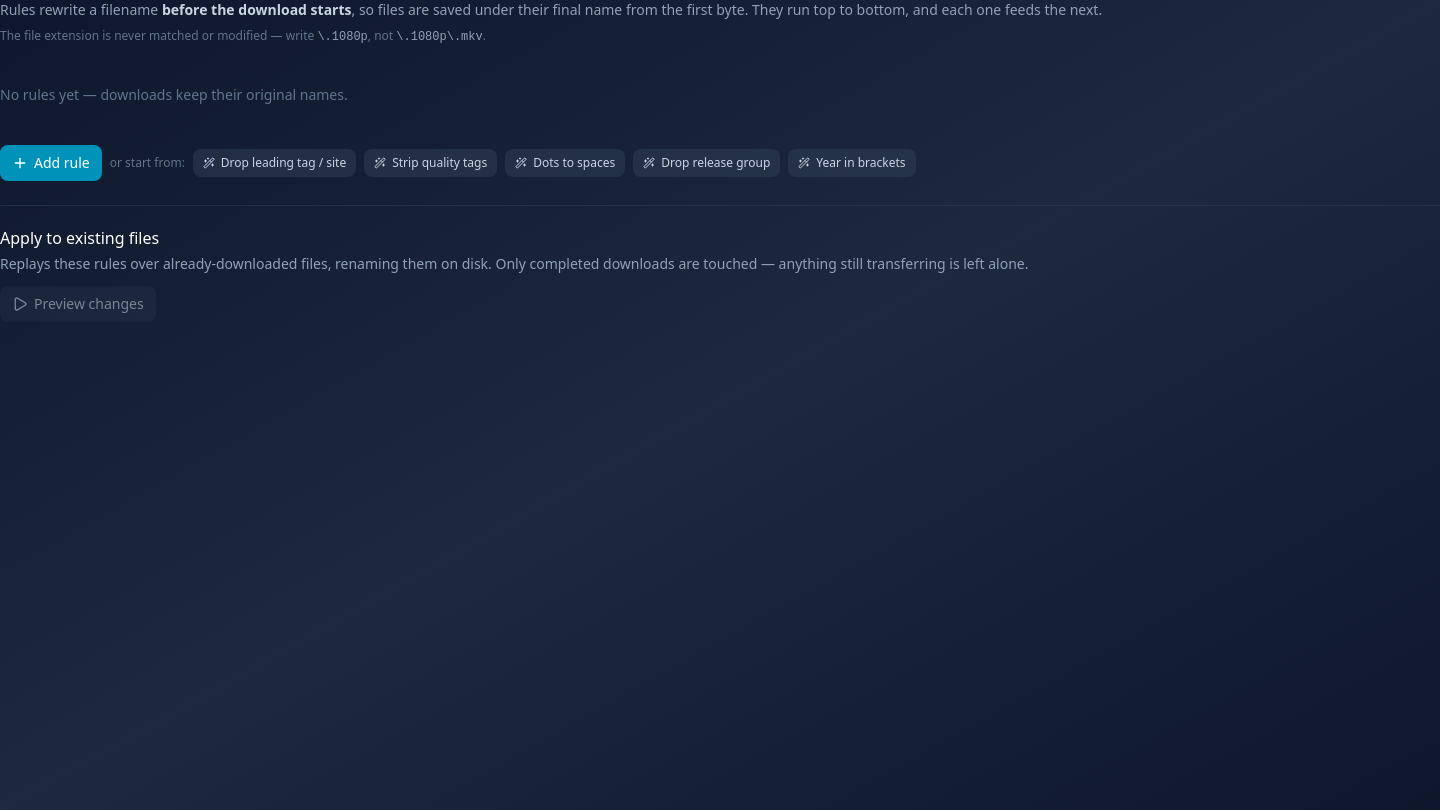
Scenario: RenameRulesSettings - editor › a preview with no match says so; a bad regex shows the server error
Click the button "Add rule".
click(51, 163)  # box [0,145,102,181]
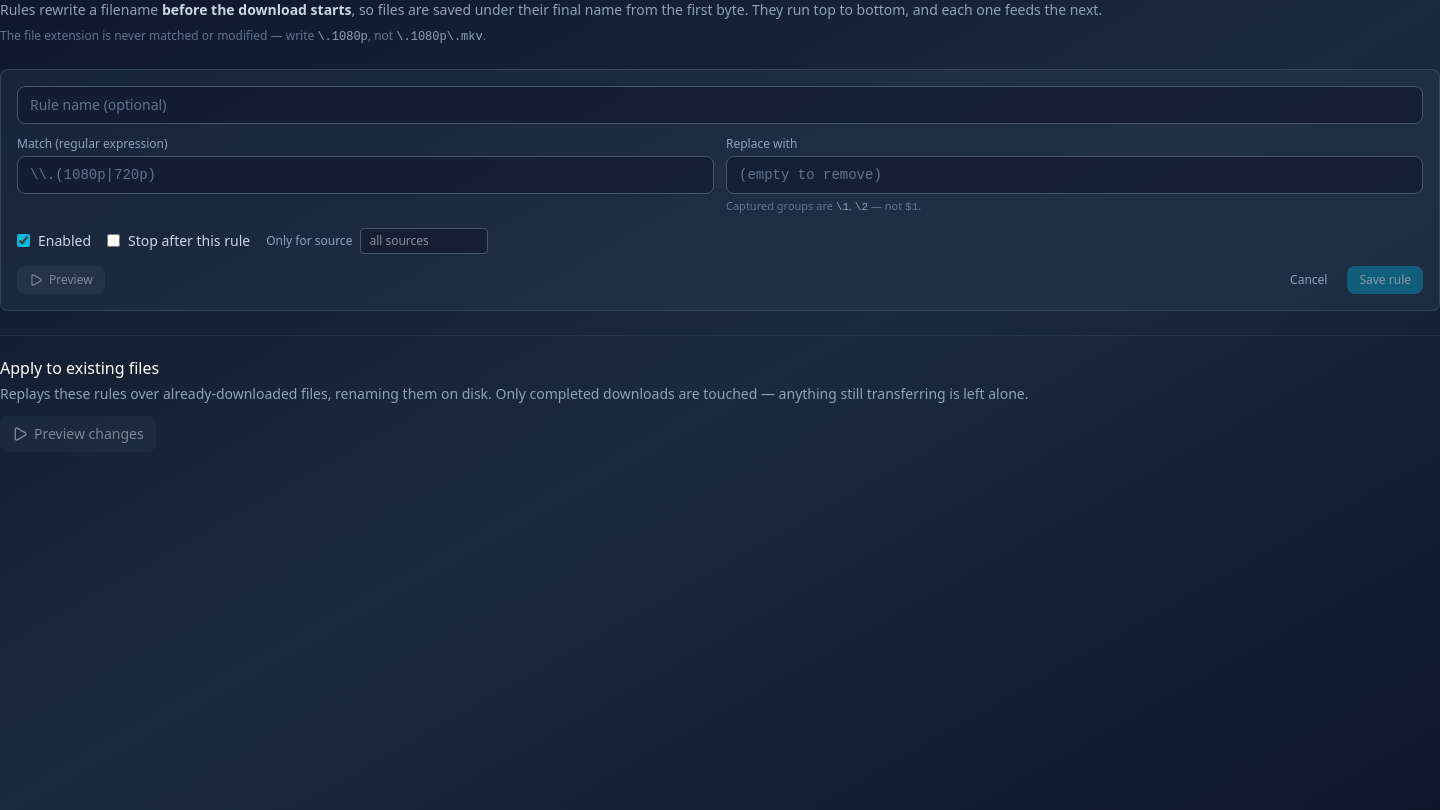
Type "zzz" into the field with placeholder "\\\\.(1080p|720p)".
click(366, 175); type("zzz")  # box [17,156,714,194]
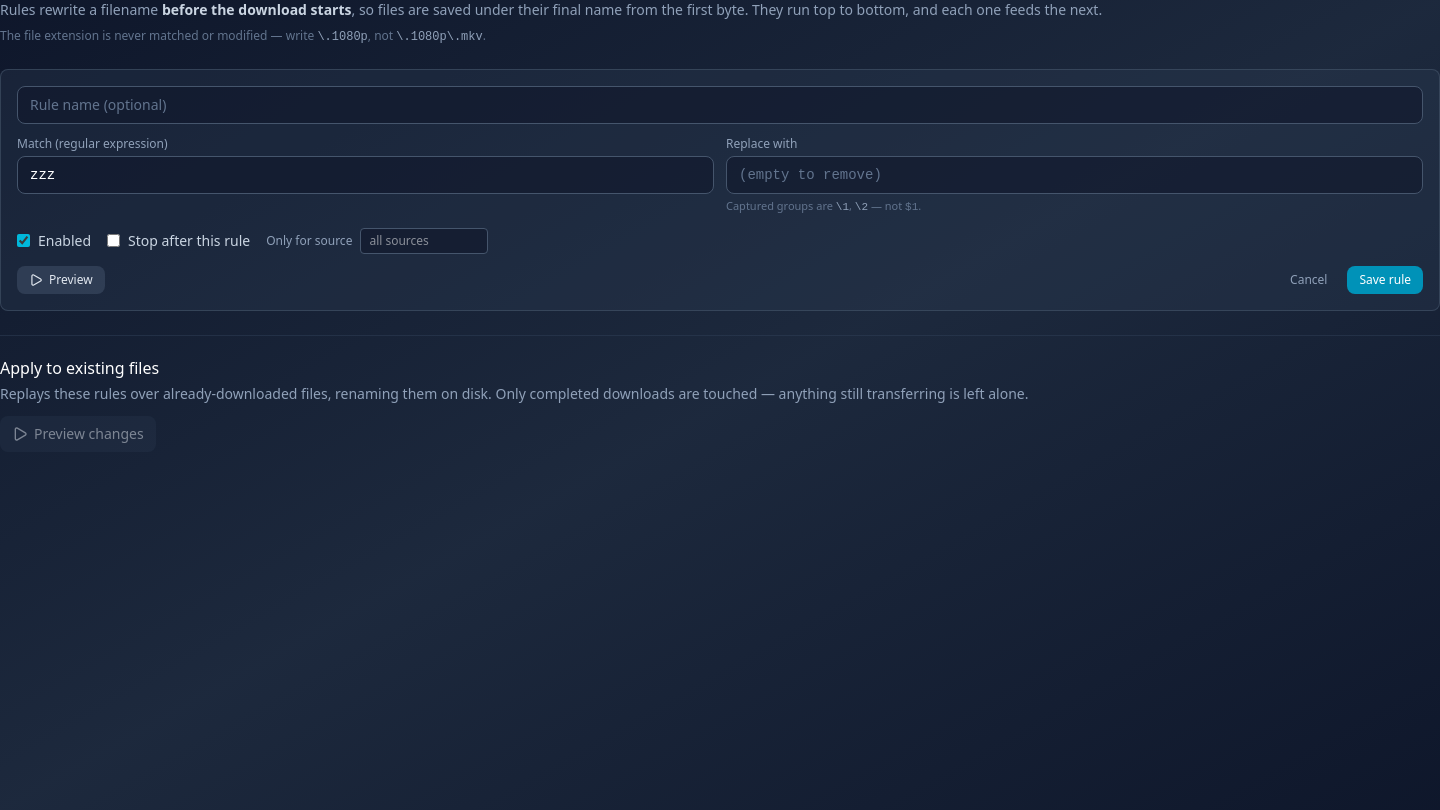
Click the button "Preview".
click(61, 280)  # box [17,266,105,294]
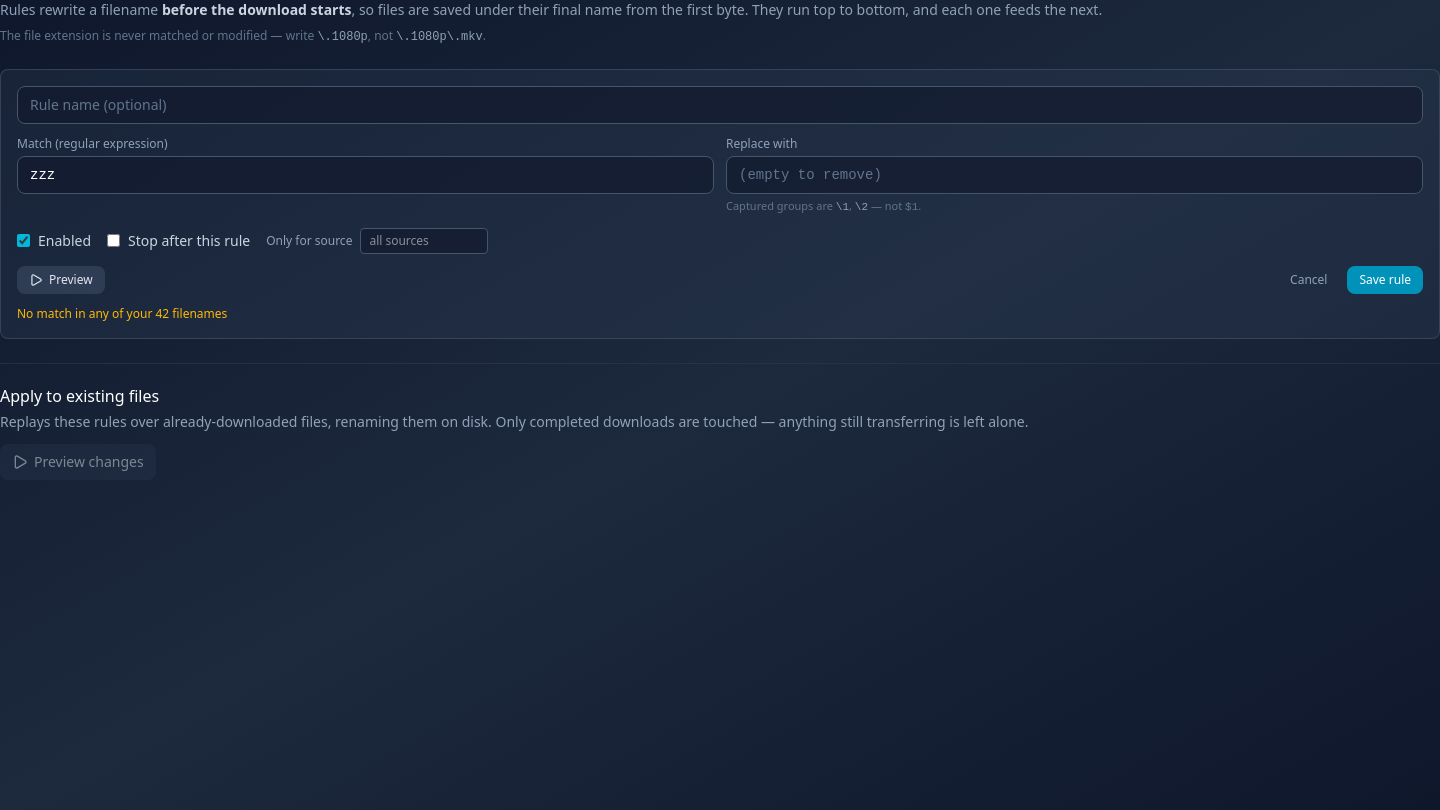
Result: the text "No match in any of your 42 filenames" is shown at [17,304,227,322]
Replace the text in the field with placeholder "\\\\.(1080p|720p)" with "[" at [366, 175], box [17,156,714,194]
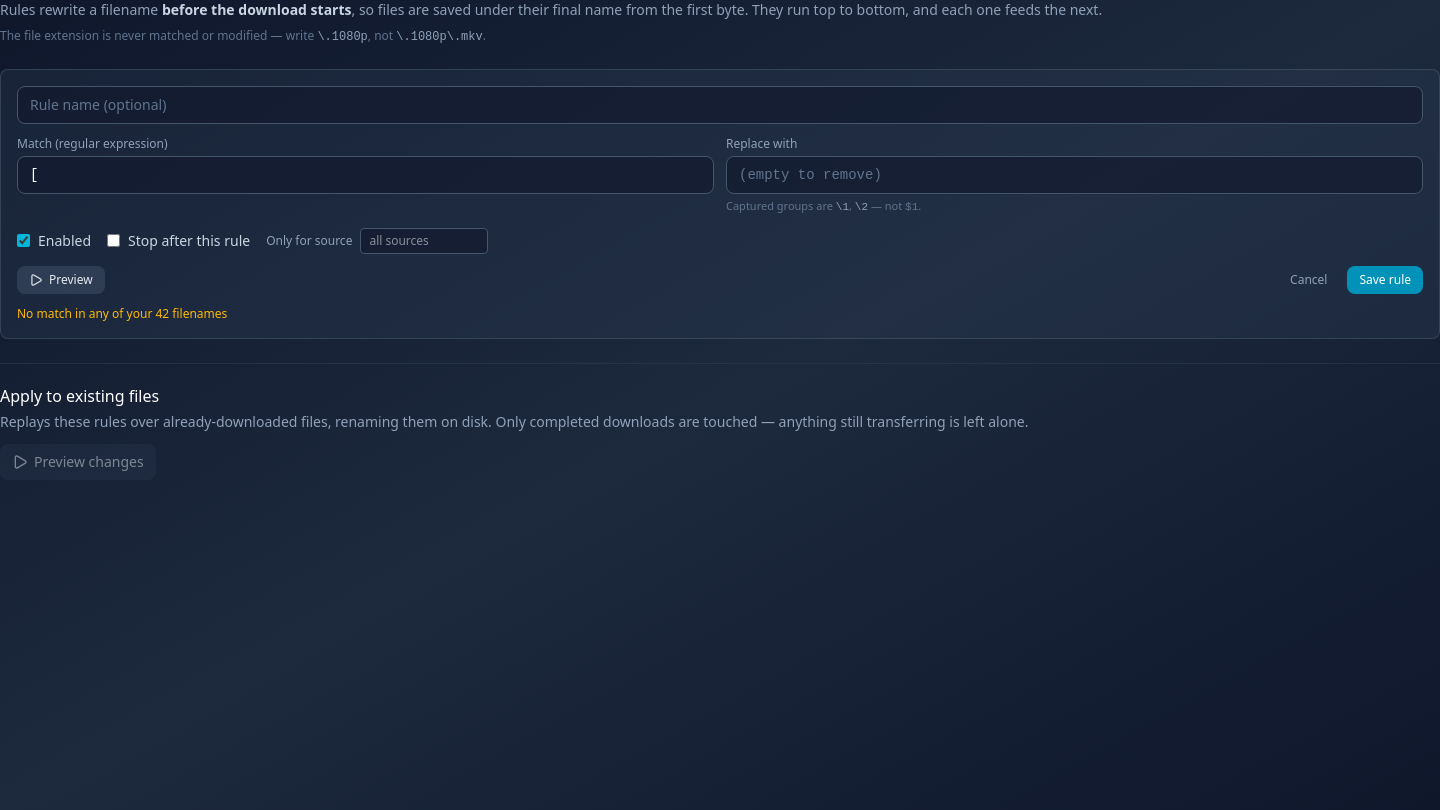
Click the button "Preview".
click(61, 280)  # box [17,266,105,294]
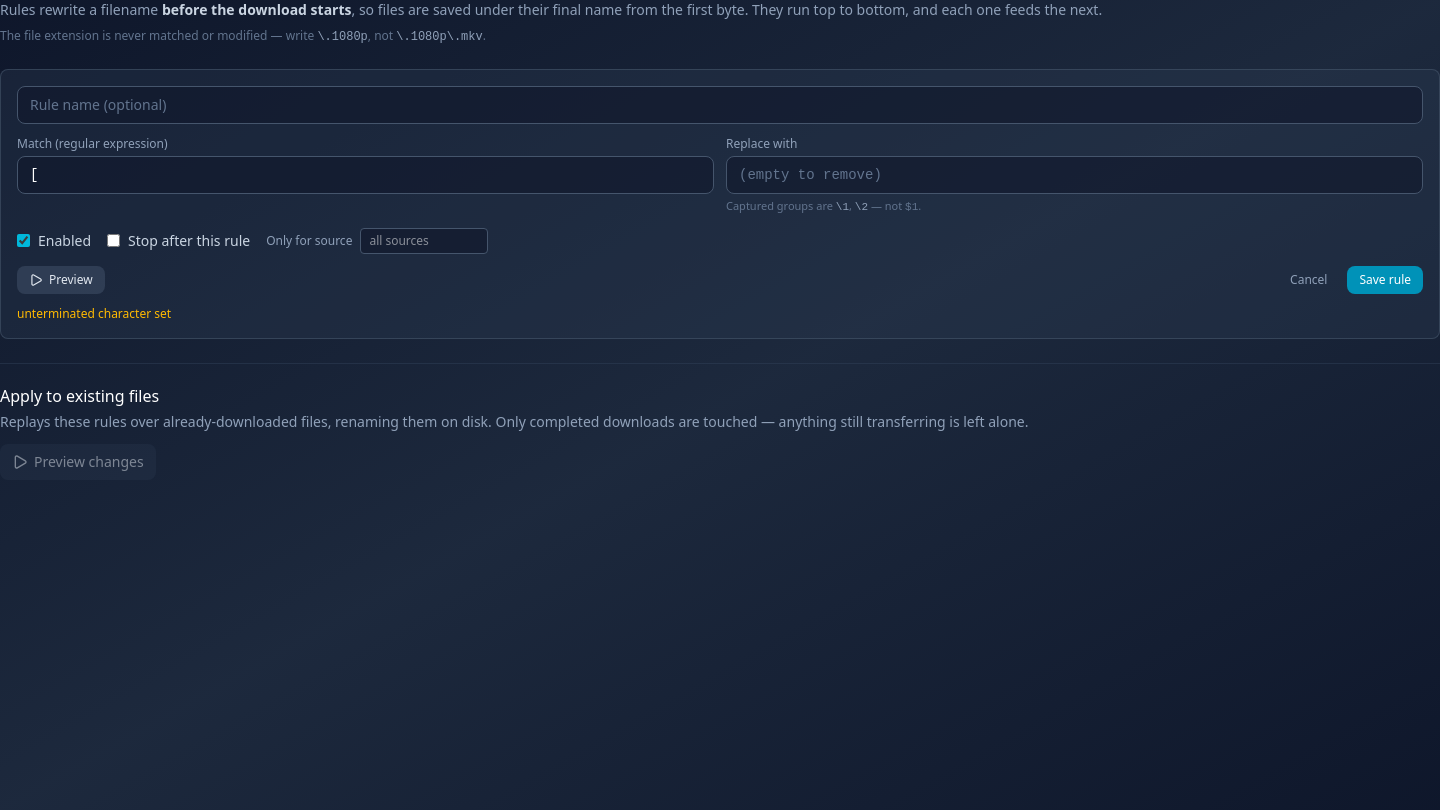
Result: the text "unterminated character set" is shown at [17,304,171,322]
